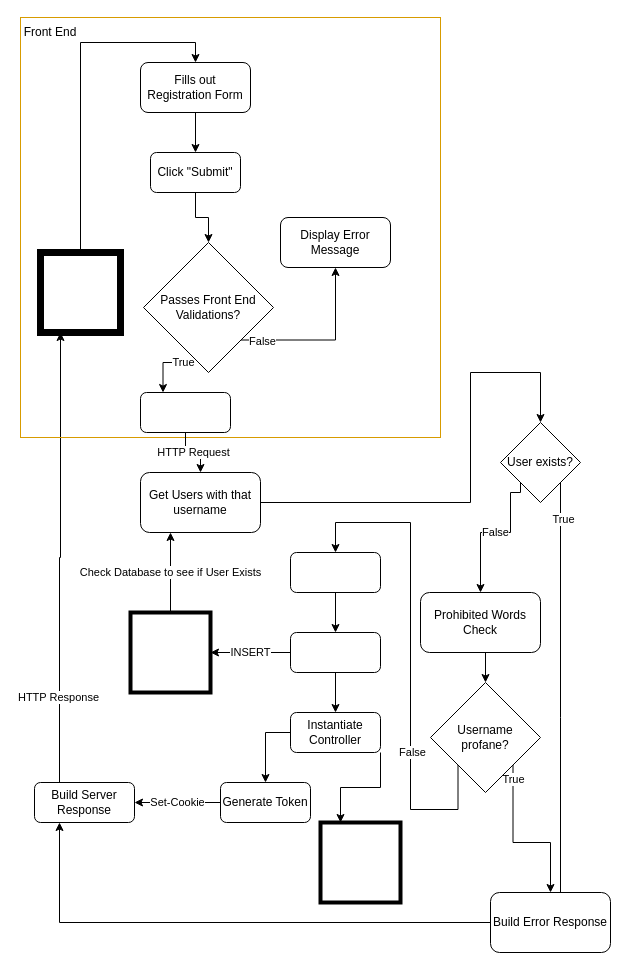
Image size: 628x970. Some labels were removed from this diagram. The shapes that lost their labels are listed below. From the top down, each one's box as (x1, y1, x2, y2) in pixels, then its label:
(36, 248, 124, 336): Guest
(140, 392, 230, 432): Send Request
(290, 552, 380, 592): Instantiate User
(128, 610, 212, 694): Users Table
(290, 632, 380, 672): Add User to Database
(318, 820, 402, 904): Controllers
